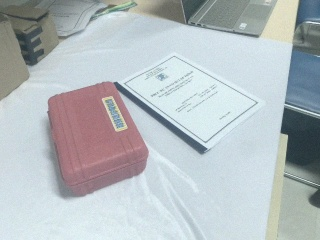box: (46, 80, 152, 199), (1, 3, 61, 66), (1, 11, 30, 124)
mouse: (308, 185, 320, 211)
